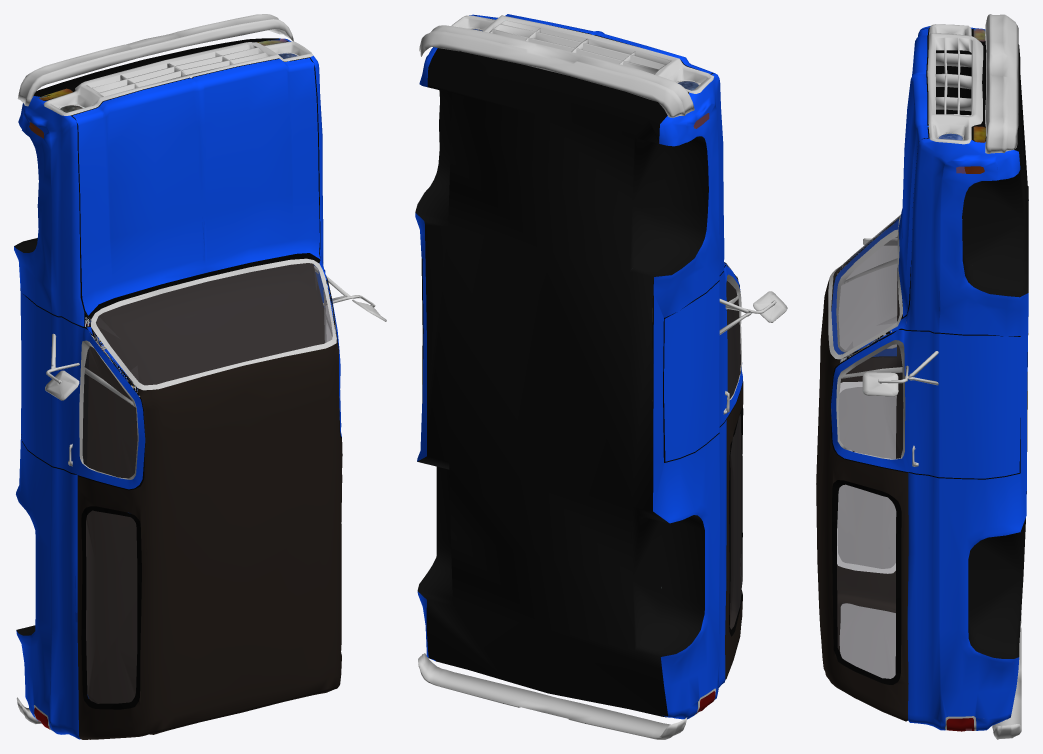
File: bronco.obj
The picture shows the model from 3 angles, left to right: view 1: azimuth 30°, elevation 25°; view 2: azimuth 150°, elevation 25°; view 3: azimuth 270°, elevation 25°; orthographic projection. The views are drawn at different scales.
Parts seen in each view (by area): view 1: bronco.001; view 2: bronco.001; view 3: bronco.001.
Boxes of the visible parts, bbox=[...] form: bronco.001: bbox=[14, 14, 386, 739]; bronco.001: bbox=[415, 14, 787, 739]; bronco.001: bbox=[816, 14, 1028, 739].
Bounding box in the file's own units: 2.36 × 4.51 × 1.4.
8 materials, 8 textured.
